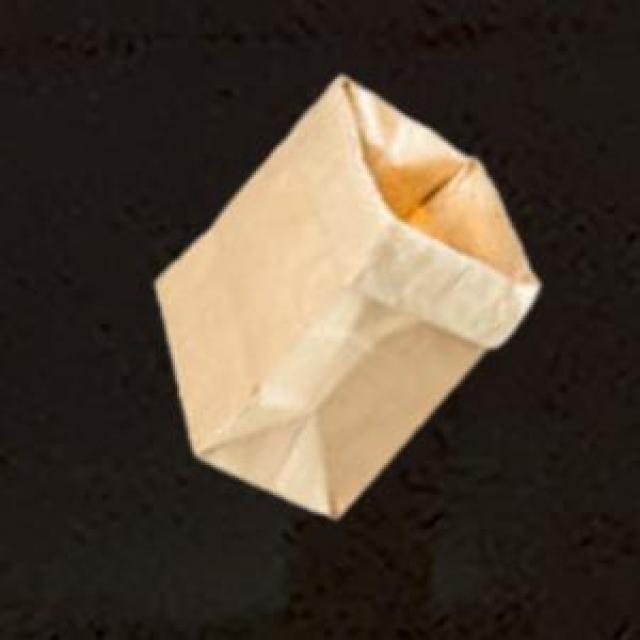paper: (152, 73, 533, 512)
